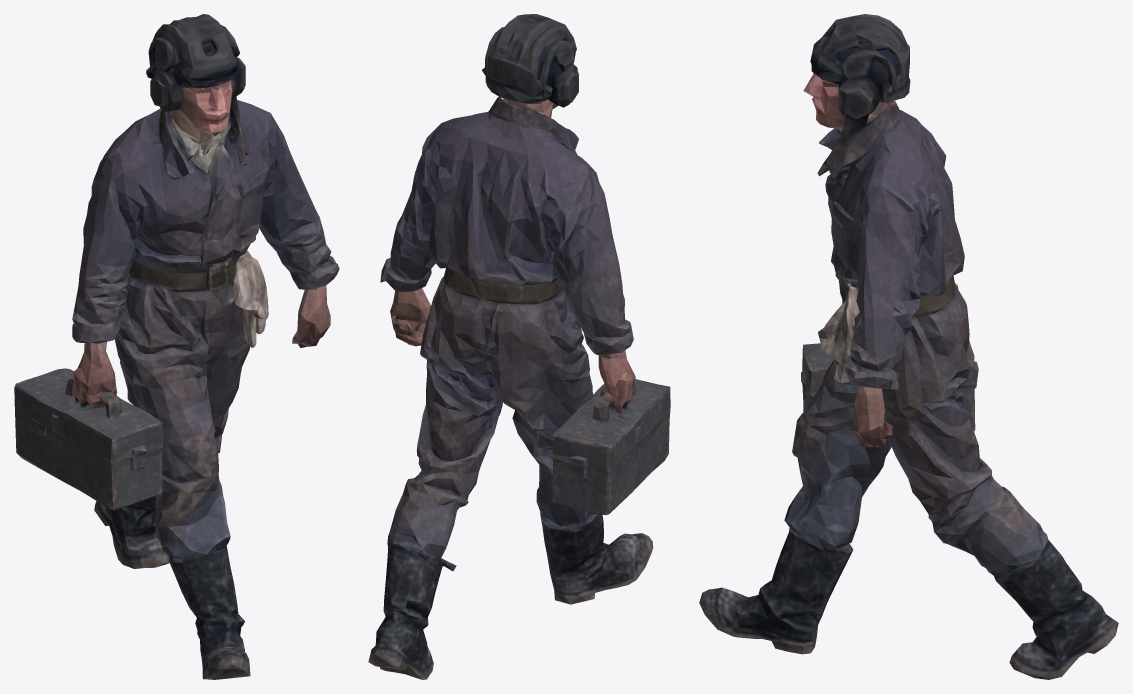
Rendered from walk_su_mech_b.obj.
The picture shows the model from 3 angles, left to right: view 1: azimuth 30°, elevation 25°; view 2: azimuth 150°, elevation 25°; view 3: azimuth 270°, elevation 25°; orthographic projection. The views are drawn at different scales.
Parts seen in each view (by area): view 1: walk_su_mech_b; view 2: walk_su_mech_b; view 3: walk_su_mech_b.
Boxes of the visible parts, box(x1,y1,x2,y2) form: walk_su_mech_b: box(14, 14, 339, 679); walk_su_mech_b: box(368, 14, 670, 679); walk_su_mech_b: box(699, 14, 1118, 679).
Bounding box in the file's own units: 0.8442 × 1.8 × 1.09.
Materials: 1 (1 with a texture image).
